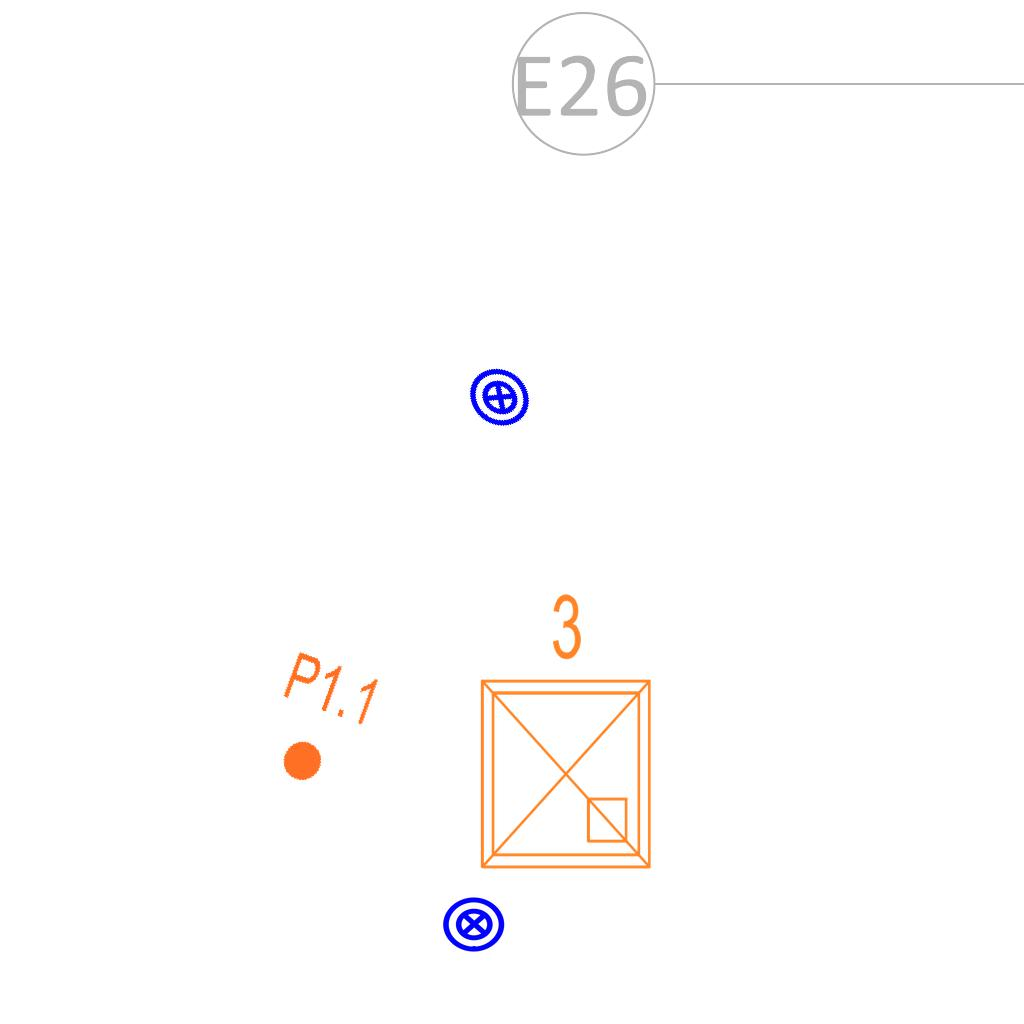Downlight_LED_Einbauleuchten_Flur: (253, 646, 386, 800)
Einbaudownlights_LED_Konferenzraeume: (458, 583, 666, 883)
Taster_beleuchtet: (453, 350, 547, 444), (441, 891, 507, 957)
